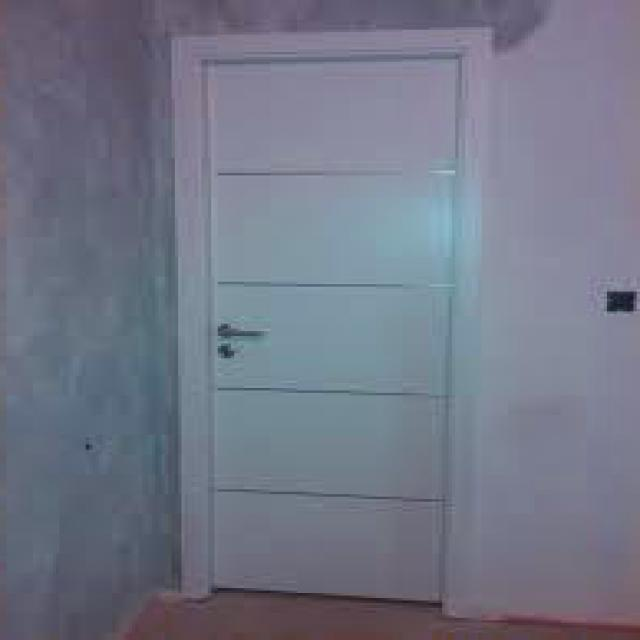door: (156, 11, 516, 636)
